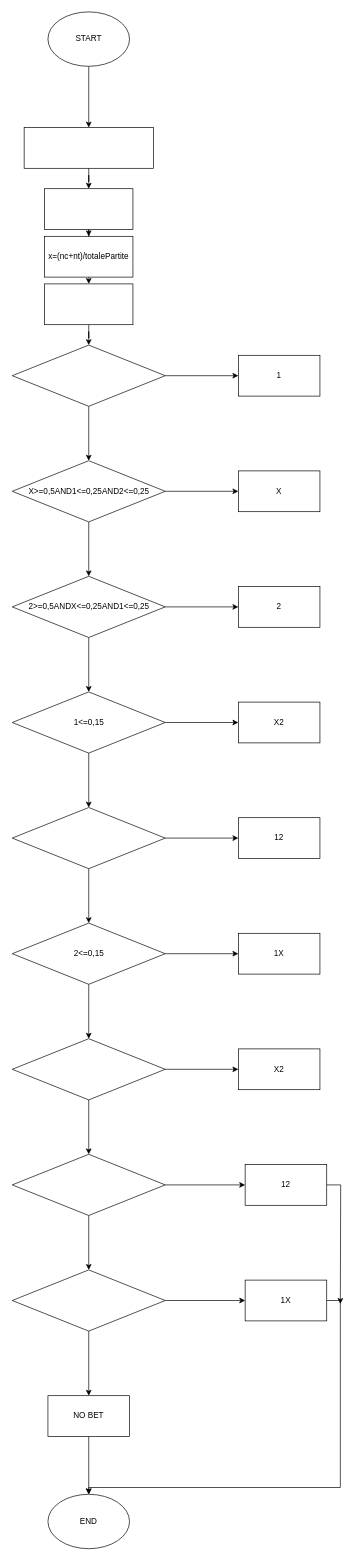
The diagram is 358 pixels wide and 1561 high, and some of its shapes have lost their labels. The shapes that lost their labels are listed below. From the top down, each one's centre as x and y in pixels, then its label:
the point at 88,147: totalePartite=vc+nc+pc+vt+nt+pt
the point at 88,209: 1=(vc+pt)/totalePartite
the point at 88,304: 2=(pc+vt)/totalePartite
the point at 88,375: 1>=0,5ANDX<=0,25AND2<=0,25
the point at 88,838: X<=0,15
the point at 88,1069: (1>2AND1<X)OR(1<2AND1>X)
the point at 88,1185: (X>2ANDX<1)OR(X<2ANDX>1)
the point at 88,1300: (2>XAND2<1)OR(2<XAND2>1)
